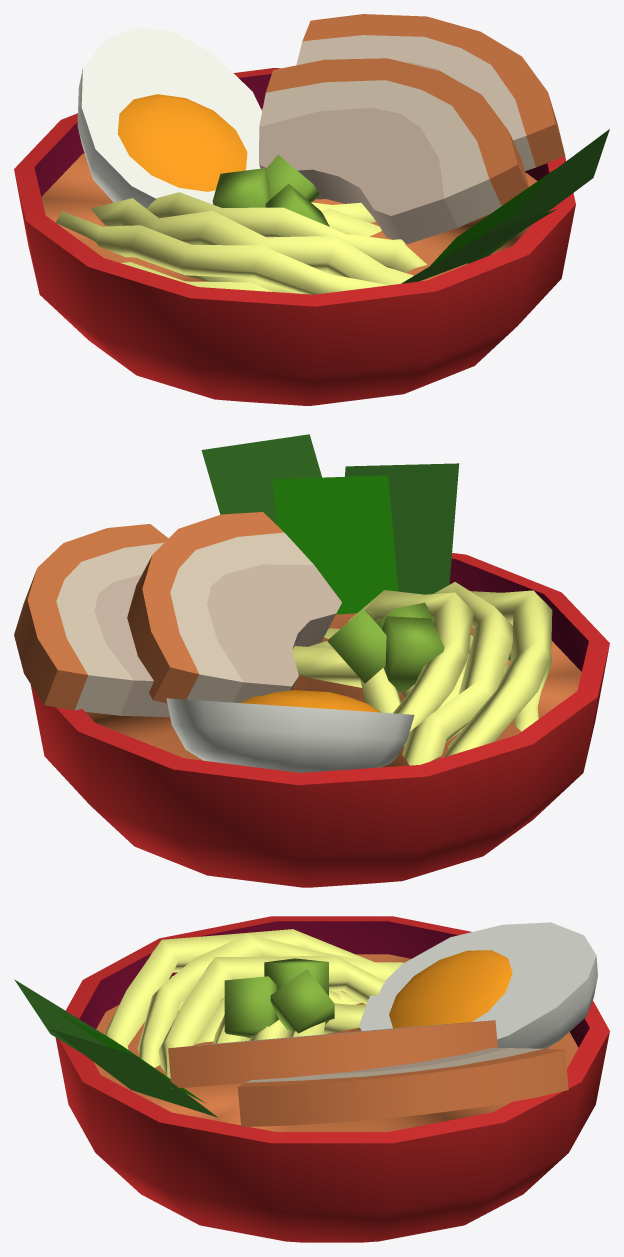
File: Ramen2_geo.fbx
The picture shows the model from 3 angles, top to bottom: view 1: azimuth 30°, elevation 25°; view 2: azimuth 150°, elevation 25°; view 3: azimuth 270°, elevation 25°; orthographic projection. The views are drawn at different scales.
Visible parts, largest first — view 1: Ramen2_geo; view 2: Ramen2_geo; view 3: Ramen2_geo.
Part boxes in pixels (bbox=[...]): Ramen2_geo: bbox=[14, 14, 609, 405]; Ramen2_geo: bbox=[14, 434, 609, 887]; Ramen2_geo: bbox=[14, 916, 609, 1242].
Bounding box in the file's own units: 0.6705 × 0.7267 × 0.3288.
